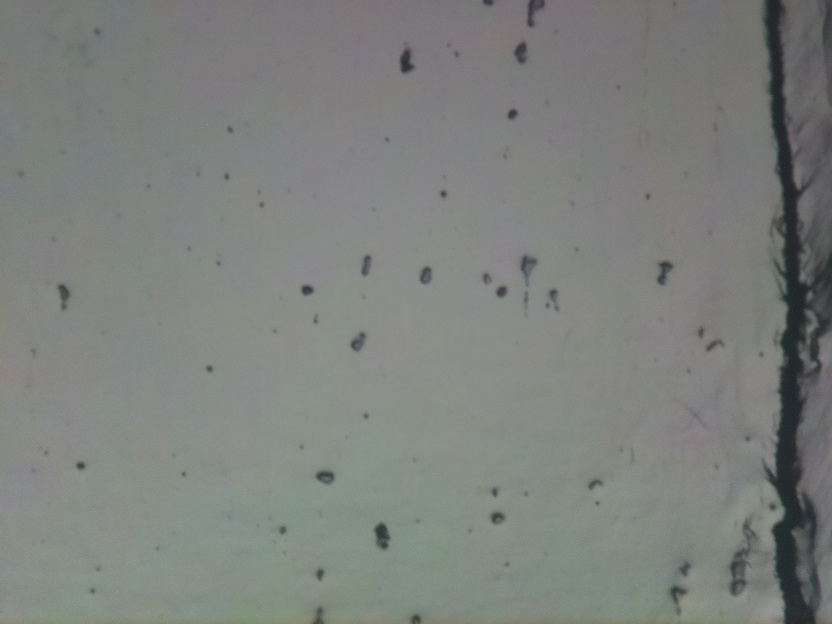crack: (751, 0, 819, 624)
